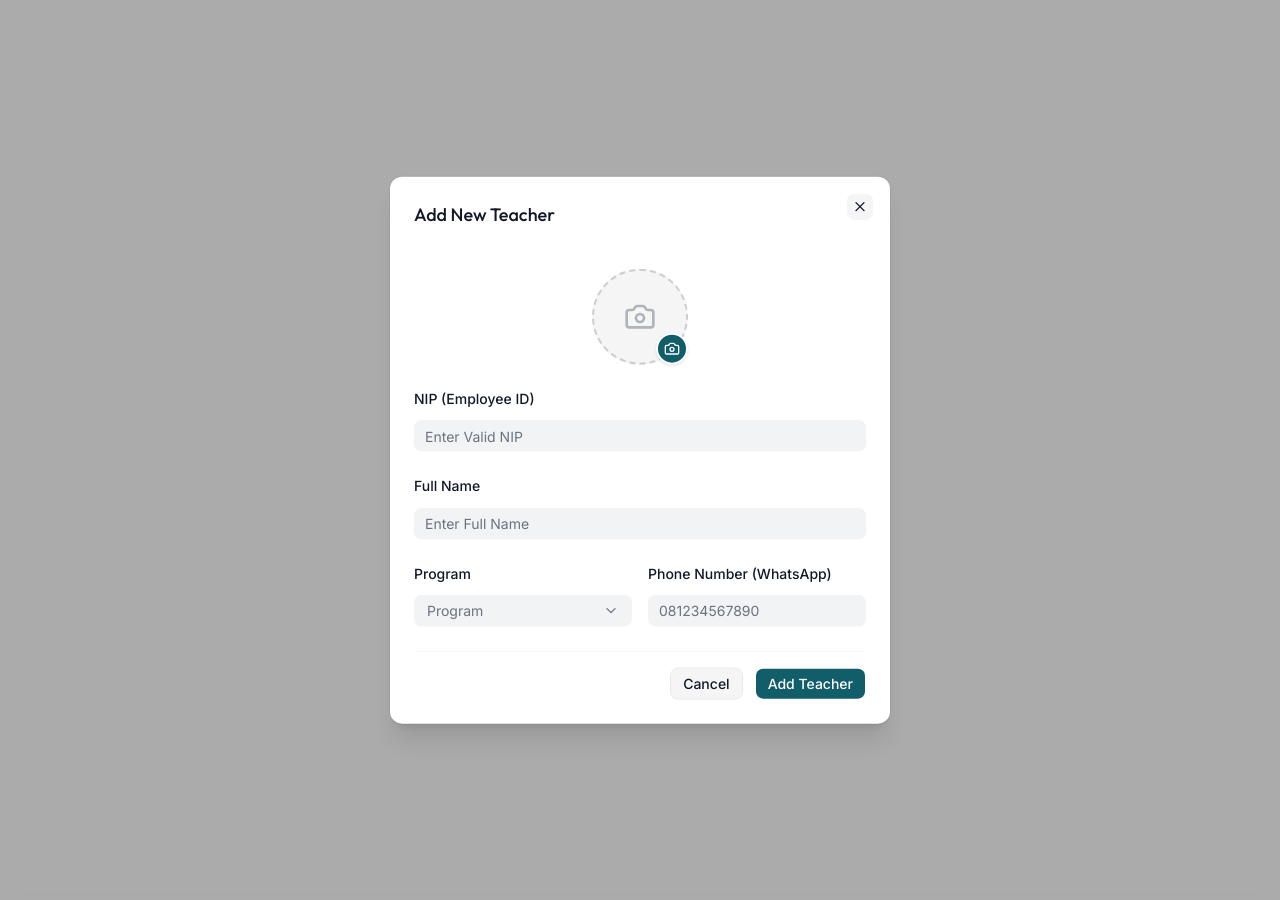
GuruFormDialog Component › should display validation errors when submitting empty form
The image size is (1280, 900).
Click the button "Add Teacher": x=810, y=683 [755, 667, 866, 699]
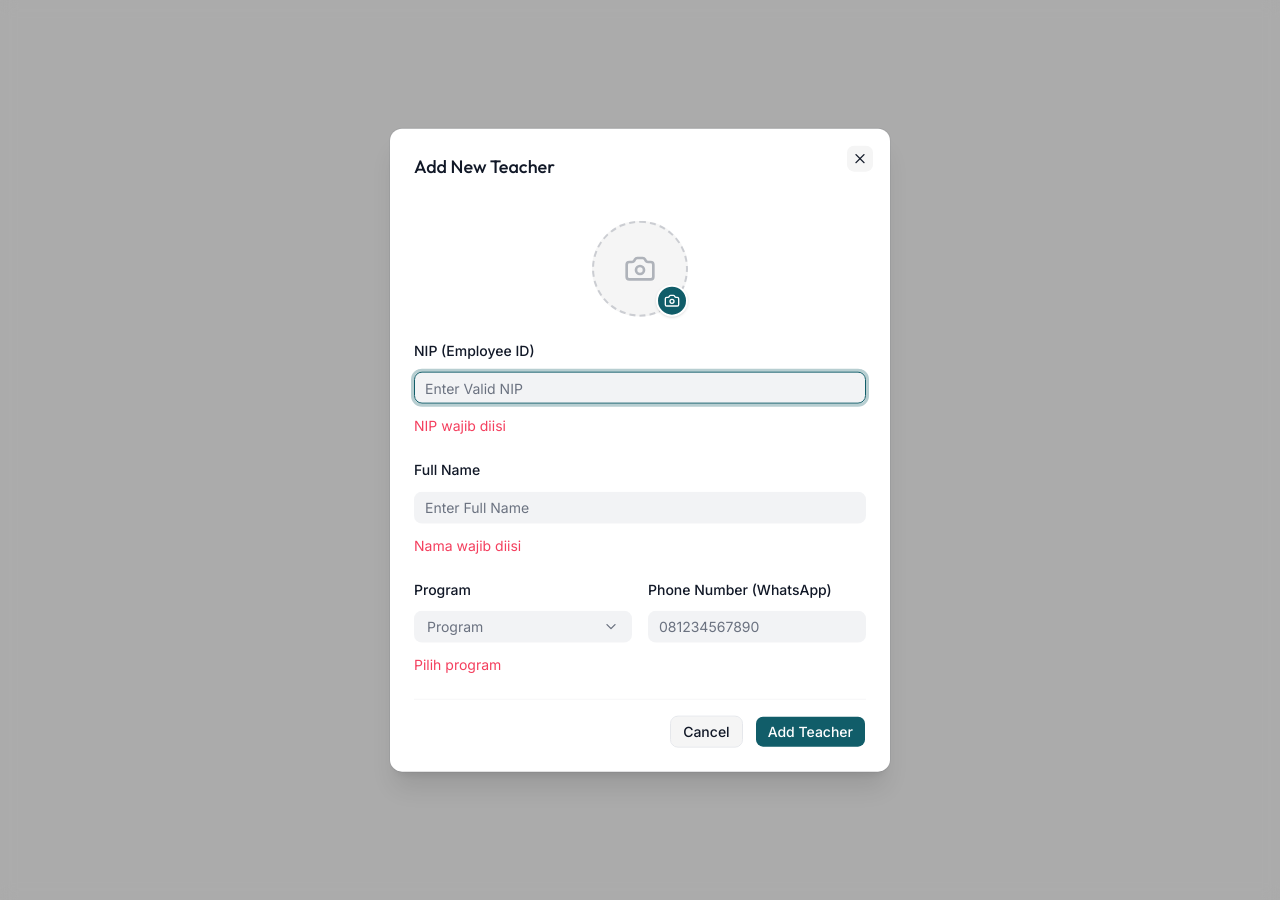
Now the text "NIP wajib diisi" is shown, box [414, 417, 506, 434]
Now the text "Nama wajib diisi" is shown, box [414, 536, 521, 553]
